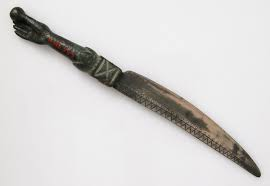knife: (8, 3, 263, 180)
